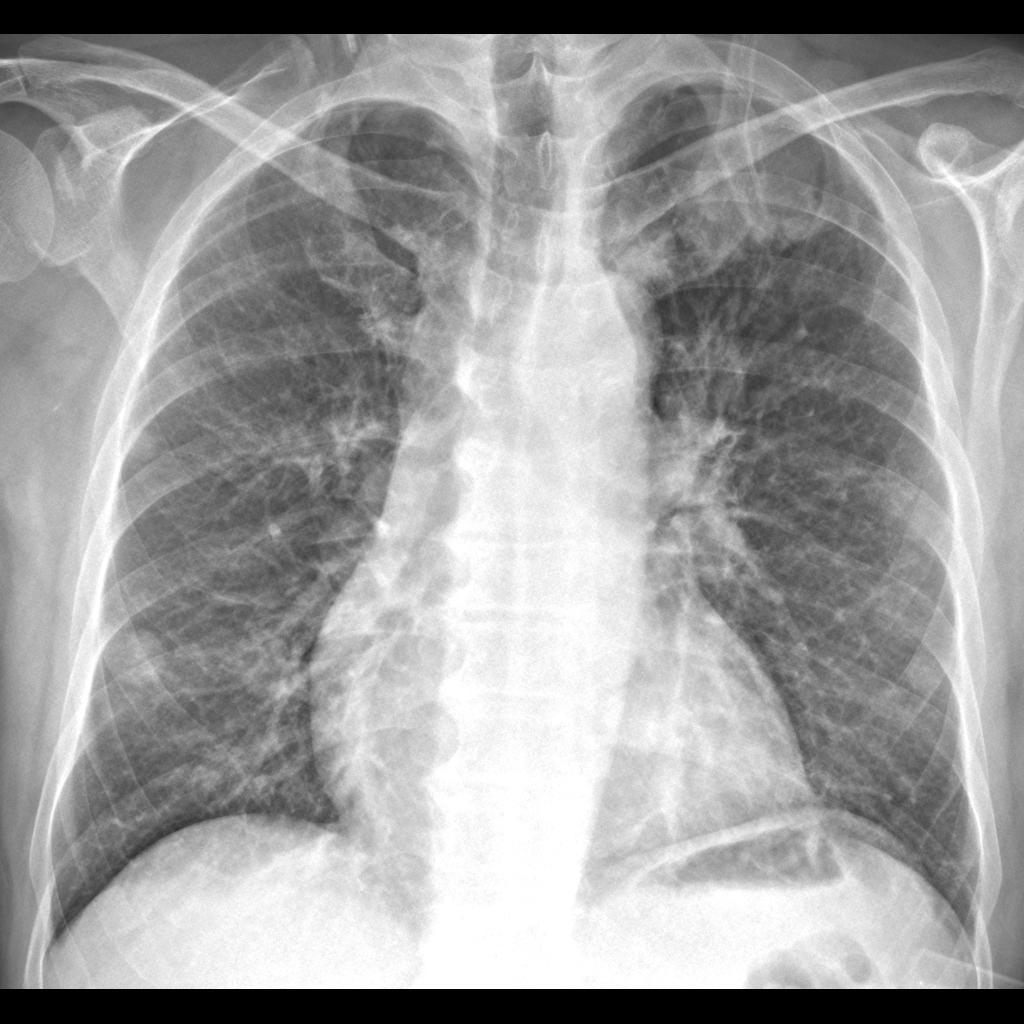Nodule: (91, 605, 175, 704)
